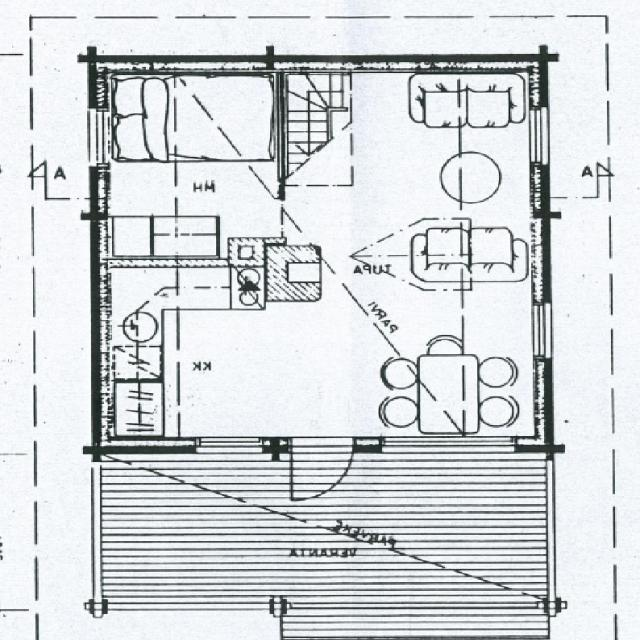door: (292, 437, 354, 505)
